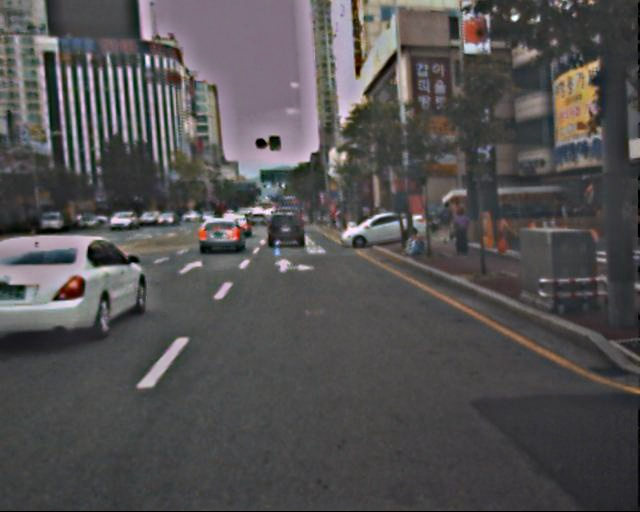person: (450, 206, 472, 259), (438, 200, 456, 243)
